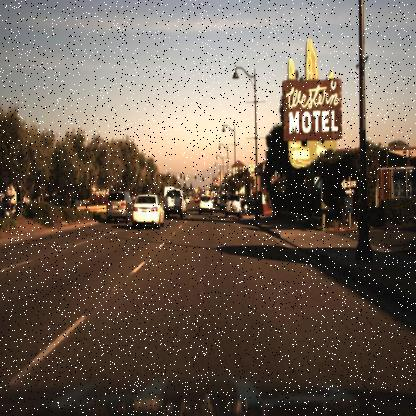car: (128, 192, 164, 233), (106, 186, 133, 226), (164, 186, 186, 221), (224, 192, 242, 219), (200, 193, 214, 216)
